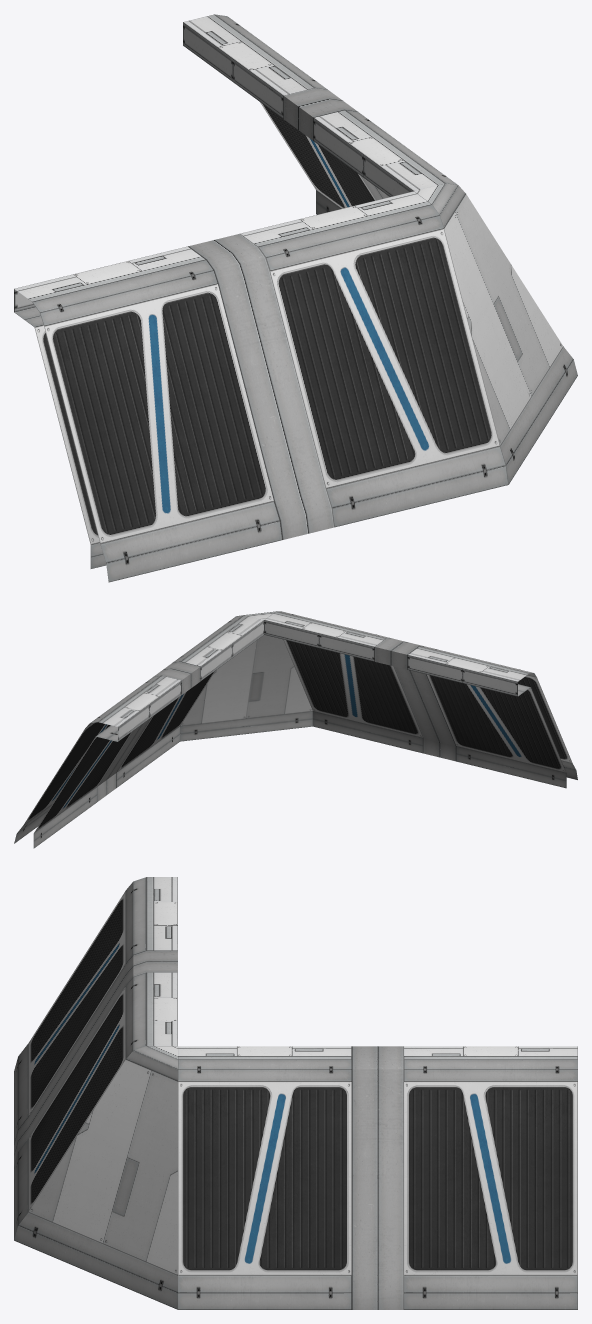
File: Ext_Window_CloseCorner_01.FBX
The picture shows the model from 3 angles, top to bottom: view 1: azimuth 30°, elevation 25°; view 2: azimuth 150°, elevation 25°; view 3: azimuth 270°, elevation 25°; orthographic projection. The views are drawn at different scales.
Parts seen in each view (by area): view 1: Ext_Window_CloseCorner_01; view 2: Ext_Window_CloseCorner_01; view 3: Ext_Window_CloseCorner_01.
Boxes of the visible parts, left/top/right/bottom form: Ext_Window_CloseCorner_01: left=14, top=14, right=577, bottom=582; Ext_Window_CloseCorner_01: left=14, top=611, right=577, bottom=848; Ext_Window_CloseCorner_01: left=14, top=877, right=577, bottom=1309.
Bounding box in the file's own units: 790 × 300 × 790.
